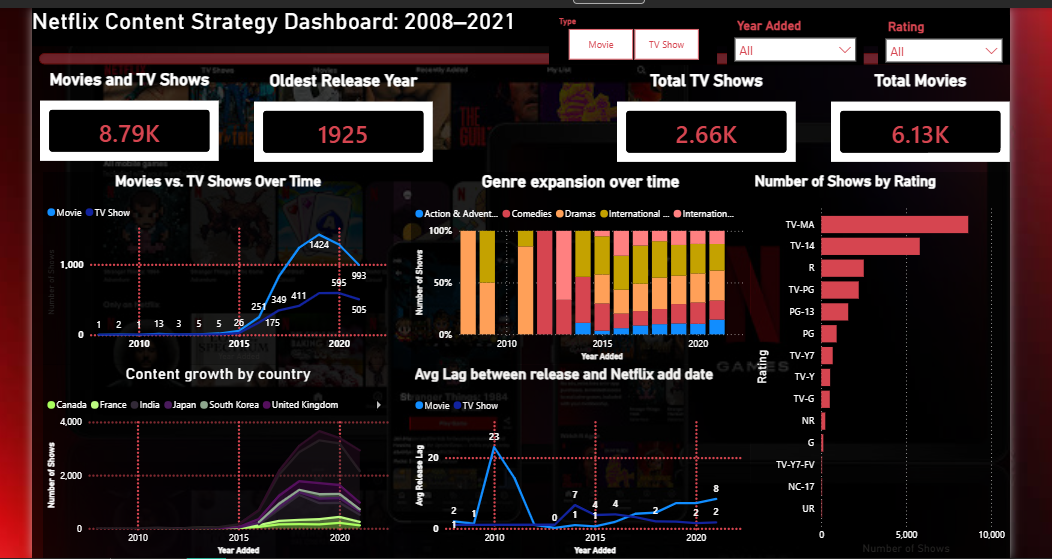

The dashboard page shown, as its layout file describes it:
{"tool":"powerbi","page":{"name":"Page 1","canvas":[1280,720],"ordinal":0},"visuals":[{"type":"cardVisual","title":"Movies and TV Shows","fields":{"Data":["Count(netflix_clean.show_id)"]},"box":[10.2,81.4,234.2,119.9],"z":0},{"type":"cardVisual","title":"Total TV Shows","fields":{"Data":["Count(netflix_clean.show_id)"]},"box":[765.7,82.8,234.2,119.9],"z":1000},{"type":"cardVisual","title":"Total Movies","fields":{"Data":["Count(netflix_clean.show_id)"]},"box":[1046.1,82.8,234.2,119.9],"z":2000},{"type":"cardVisual","title":"Oldest Release Year","fields":{"Data":["Min(netflix_clean.release_year)"]},"box":[290.6,82.8,234.2,119.9],"z":3000},{"type":"shape","title":"Netflix Content Strategy Dashboard: 2008–2021","box":[0,0,1280,82.8],"z":4000},{"type":"slicer","fields":{"Values":["netflix_clean.year_added"]},"box":[909.5,7.3,178.7,66.8],"z":5000},{"type":"slicer","fields":{"Values":["netflix_clean.rating"]},"box":[1107.1,8.7,172.9,65.4],"z":6000},{"type":"lineChart","title":" Movies vs. TV Shows Over Time","fields":{"Category":["netflix_clean.year_added"],"Y":["Count(netflix_clean.show_id)"],"Series":["netflix_clean.type"]},"box":[14.5,215,458.9,252.2],"z":7000},{"type":"clusteredBarChart","fields":{"Category":["netflix_clean.rating"],"Y":["CountNonNull(netflix_clean.show_id)"]},"box":[941,214.8,337.5,505.6],"z":8000},{"type":"slicer","fields":{"Values":["netflix_clean.type"]},"box":[676.8,6.5,219.9,68.1],"z":9000},{"type":"stackedAreaChart","title":"Content growth by country","fields":{"Category":["netflix_clean.year_added"],"Y":["CountNonNull(netflix_clean.show_id)"],"Series":["netflix_clean.country"]},"box":[14.5,466.4,459.1,254.3],"z":10000},{"type":"hundredPercentStackedColumnChart","title":"Genre expansion over time","fields":{"Category":["netflix_clean.year_added"],"Y":["CountNonNull(netflix_clean.show_id)"],"Series":["netflix_clean.listed_in"]},"box":[496.2,215.3,444.5,251.5],"z":11000},{"type":"lineChart","title":"Avg Lag between release and Netflix add date","fields":{"Category":["netflix_clean.year_added"],"Y":["netflix_clean.Avg Release Lag"],"Series":["netflix_clean.type"]},"box":[496,467,444,253],"z":12000}]}

Visuals, with their boxes on the page's 1280x720 design canvas (x1, y1, x2, y2). These are canvas units, not pixel positions in the 1052x559 screenshot, which may show the page scaled, cropped or inside an application window:
"Movies and TV Shows" cardVisual: locate(10, 81, 244, 201)
"Total TV Shows" cardVisual: locate(766, 83, 1000, 203)
"Total Movies" cardVisual: locate(1046, 83, 1280, 203)
"Oldest Release Year" cardVisual: locate(291, 83, 525, 203)
"Netflix Content Strategy Dashboard: 2008–2021" shape: locate(0, 0, 1280, 83)
slicer - netflix_clean.year_added: locate(910, 7, 1088, 74)
slicer - netflix_clean.rating: locate(1107, 9, 1280, 74)
" Movies vs. TV Shows Over Time" lineChart: locate(14, 215, 473, 467)
clusteredBarChart - netflix_clean.rating x CountNonNull(netflix_clean.show_id): locate(941, 215, 1278, 720)
slicer - netflix_clean.type: locate(677, 6, 897, 75)
"Content growth by country" stackedAreaChart: locate(14, 466, 474, 721)
"Genre expansion over time" hundredPercentStackedColumnChart: locate(496, 215, 941, 467)
"Avg Lag between release and Netflix add date" lineChart: locate(496, 467, 940, 720)
